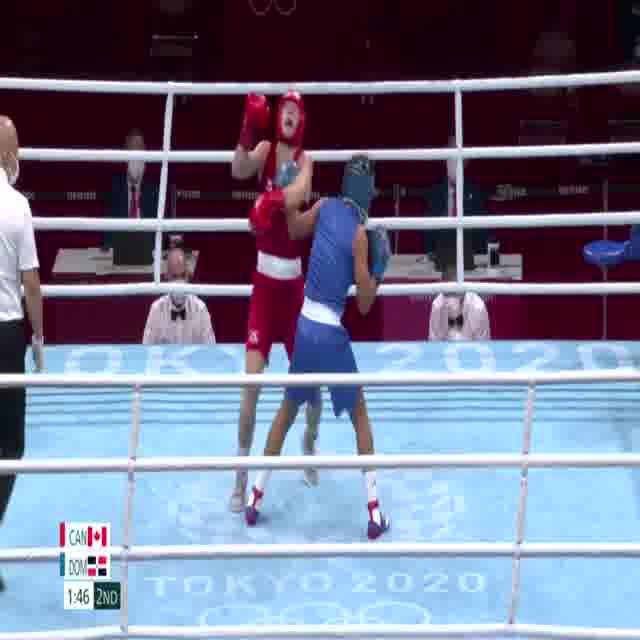blue-player: (241, 152, 392, 541)
red-player: (228, 86, 322, 514)
referee: (0, 112, 49, 593)
